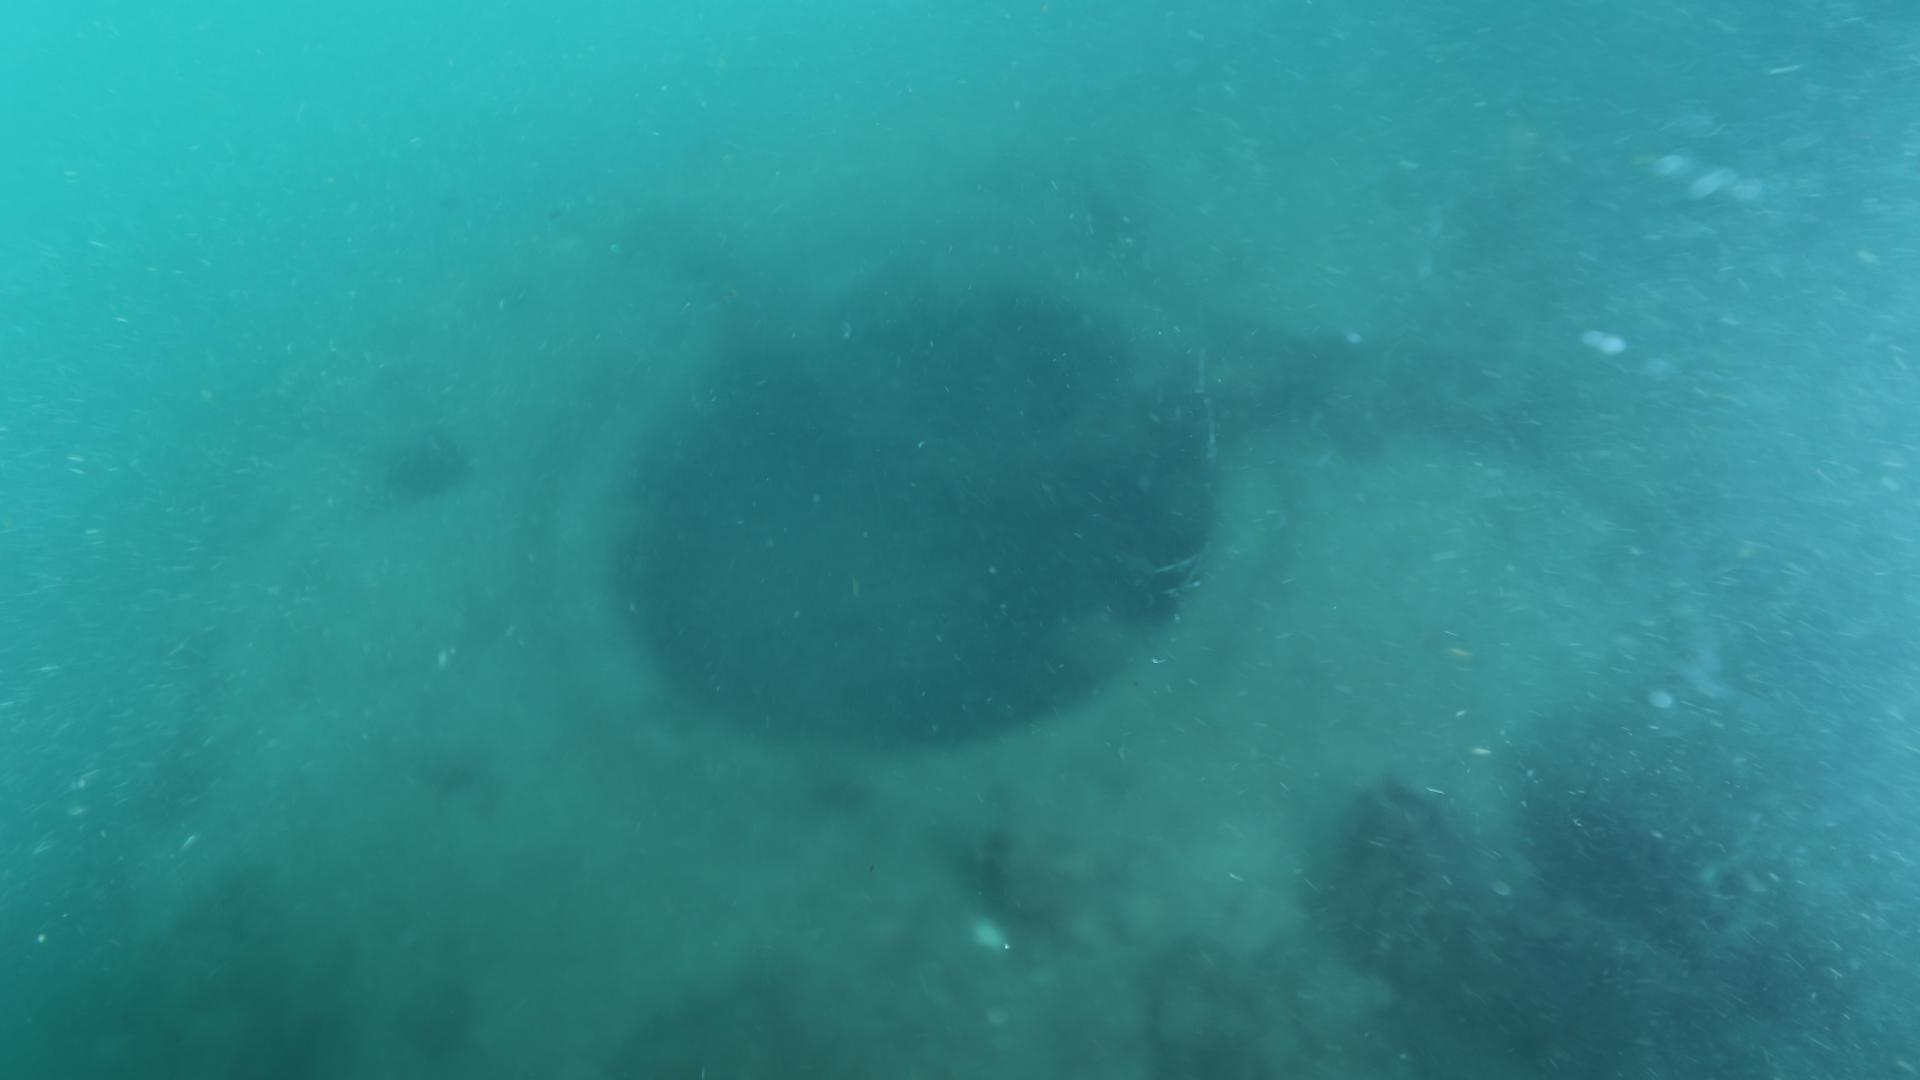tire: (100, 73, 1669, 1080)
